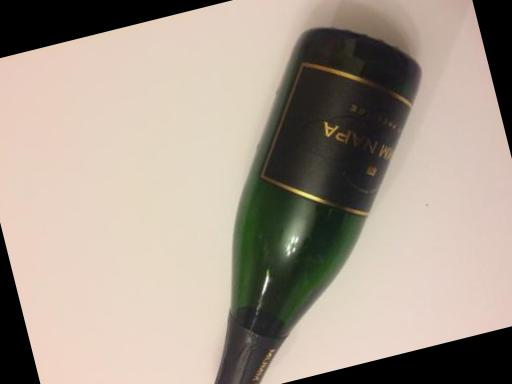glass: (28, 0, 510, 384)
